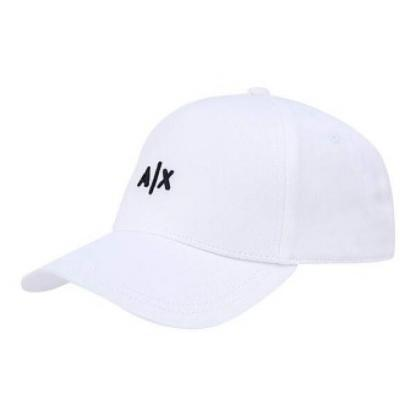cap: (14, 93, 404, 334)
